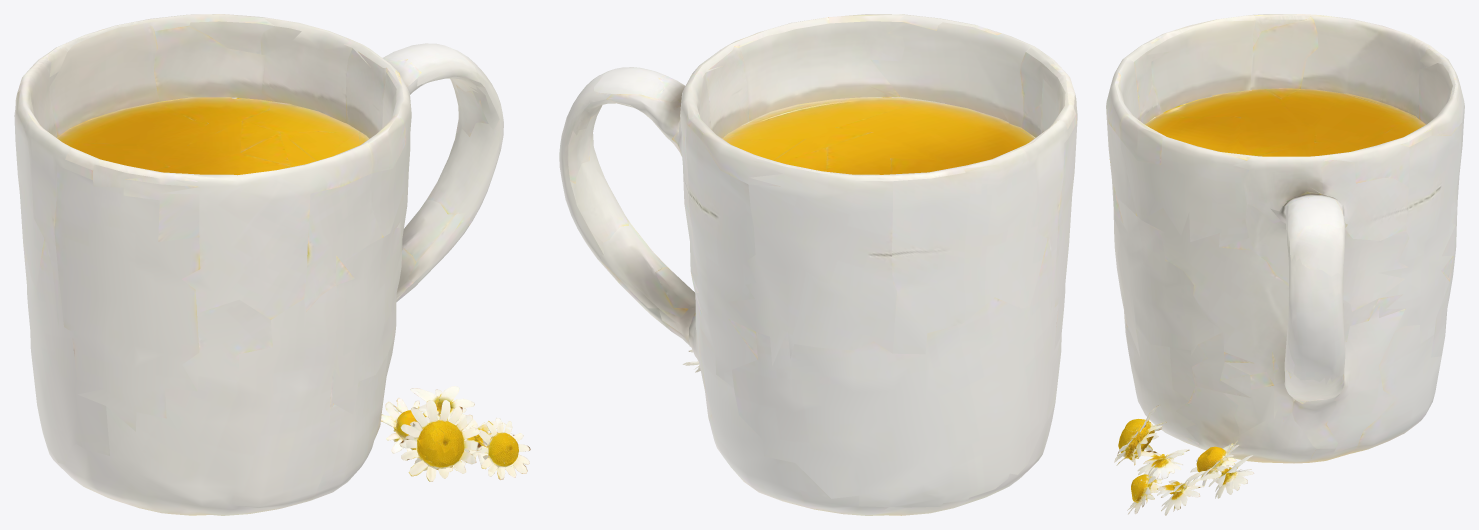
File: tea.glb
The picture shows the model from 3 angles, left to right: view 1: azimuth 30°, elevation 25°; view 2: azimuth 150°, elevation 25°; view 3: azimuth 270°, elevation 25°; orthographic projection. The views are drawn at different scales.
Parts seen in each view (by area): view 1: Mesh_0; view 2: Mesh_0; view 3: Mesh_0.
Part boxes in pixels (x1,y1,x2,y2): Mesh_0: [14, 14, 530, 515]; Mesh_0: [559, 14, 1077, 515]; Mesh_0: [1106, 14, 1464, 515].
Size of the model in its own units: 1.9 by 1.44 by 1.4.
Materials: 1 (1 with a texture image).
